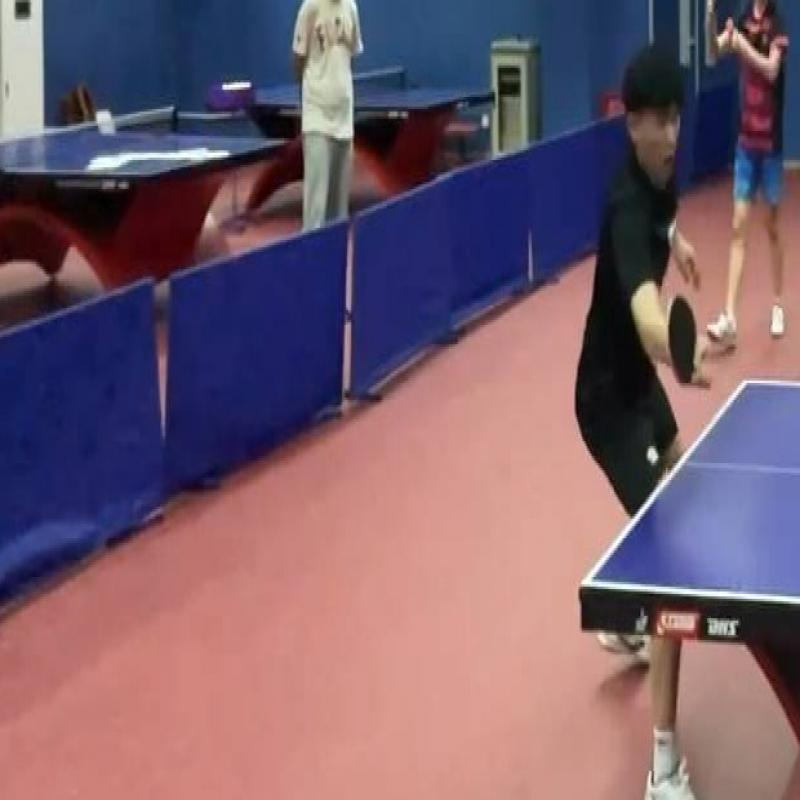bats: (656, 286, 708, 402)
